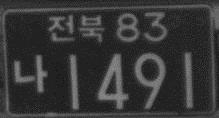1: (181, 49, 196, 111), (66, 51, 80, 111)
3: (142, 10, 168, 43)
4: (96, 52, 130, 109)
8: (116, 12, 140, 42)
9: (133, 50, 166, 110)
나: (12, 53, 48, 94)
전북_O: (46, 13, 104, 45)
